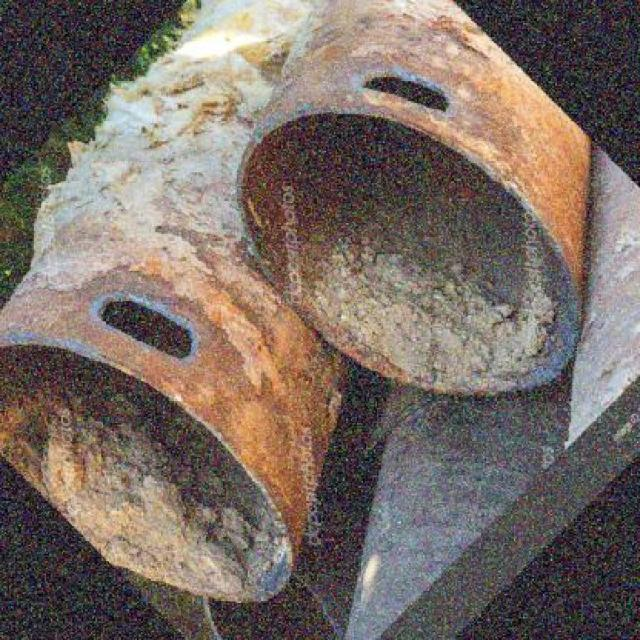Hole: (96, 285, 213, 381), (347, 71, 461, 137)
